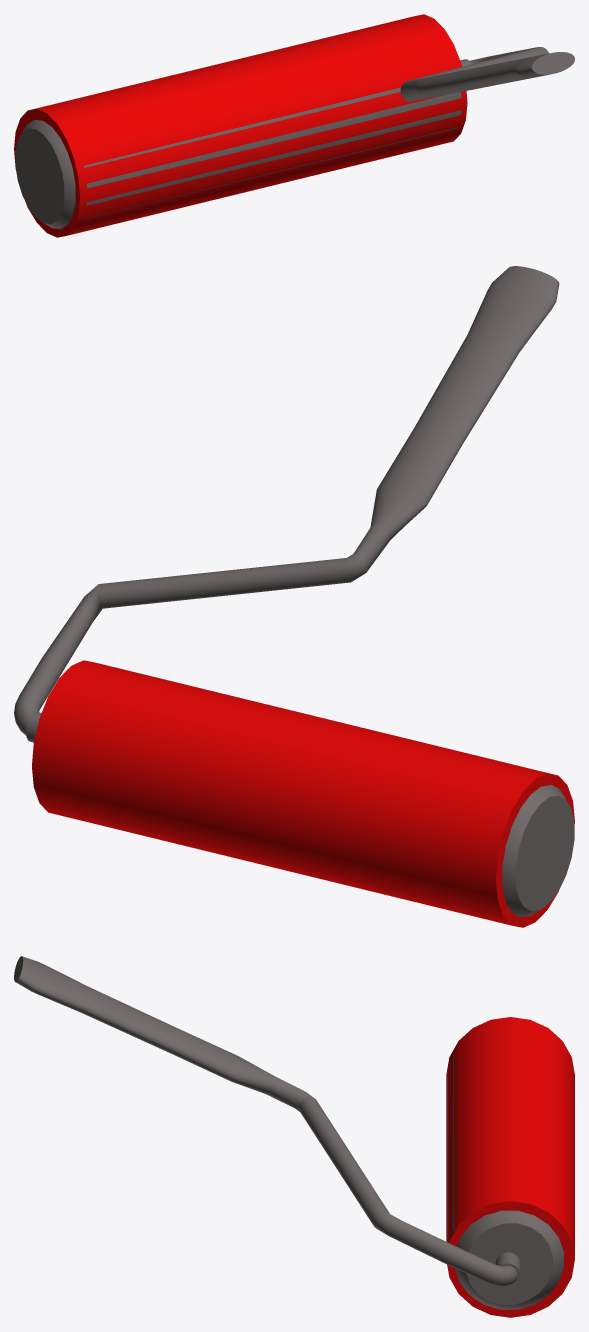
Rendered from PaintRollRed.fbx.
3 views of the same model, one above another, from view 1: azimuth 30°, elevation 25°; view 2: azimuth 150°, elevation 25°; view 3: azimuth 270°, elevation 25° (orthographic). The views are drawn at different scales.
Parts seen in each view (by area): view 1: pCylinder5, pCylinder4; view 2: pCylinder5, pCylinder4; view 3: pCylinder5, pCylinder4.
Part boxes in pixels (bbox=[...]): pCylinder5: bbox=[14, 14, 467, 237]; pCylinder4: bbox=[15, 47, 574, 229]; pCylinder5: bbox=[32, 660, 574, 927]; pCylinder4: bbox=[14, 266, 574, 917]; pCylinder5: bbox=[446, 1017, 574, 1317]; pCylinder4: bbox=[14, 956, 563, 1309].
Size of the model in its own units: 4.01 by 2.56 by 4.43.
